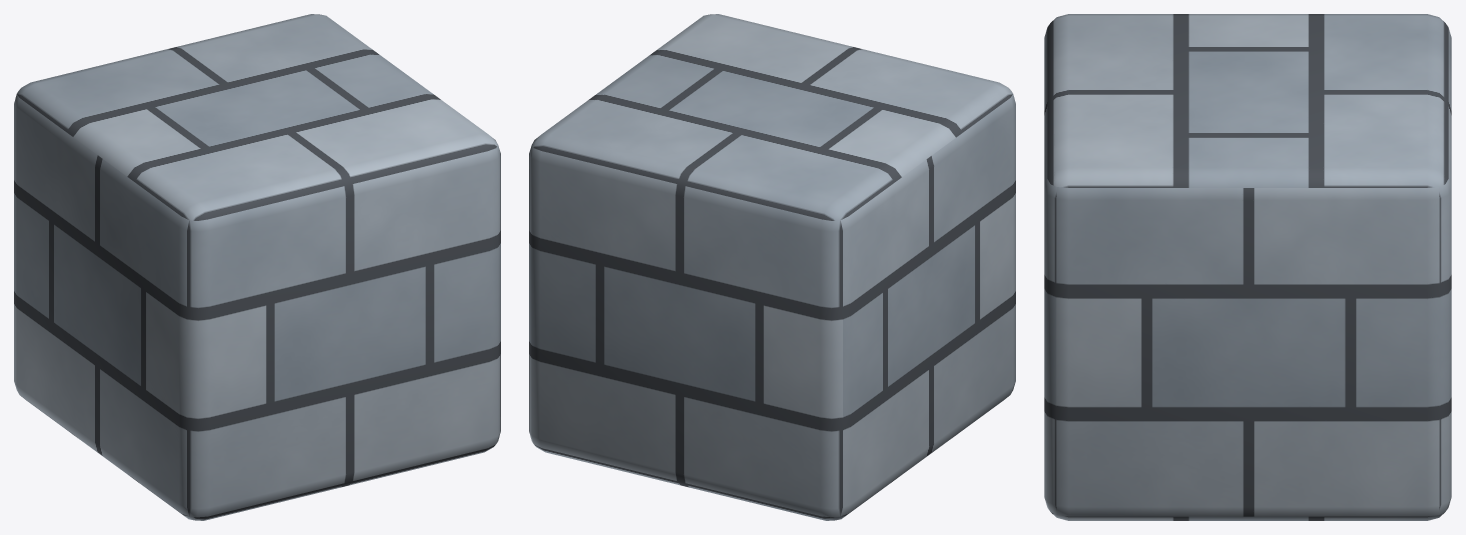
Rendered from border.glb.
3 renders of one model, left to right at view 1: azimuth 30°, elevation 25°; view 2: azimuth 150°, elevation 25°; view 3: azimuth 270°, elevation 25°, orthographic. The views are drawn at different scales.
Parts seen in each view (by area): view 1: border; view 2: border; view 3: border.
Boxes of the visible parts, x1,y1,x2,y2 form: border: (14, 14, 500, 520); border: (529, 14, 1015, 520); border: (1044, 14, 1451, 520).
Bounding box in the file's own units: 1 × 0.95 × 1.
Materials: 1 (1 with a texture image).
